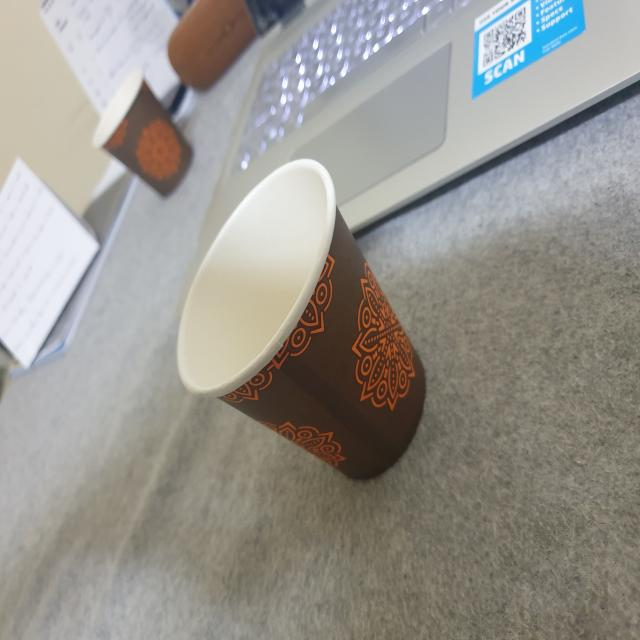cups: (170, 158, 437, 486), (90, 69, 201, 206)
